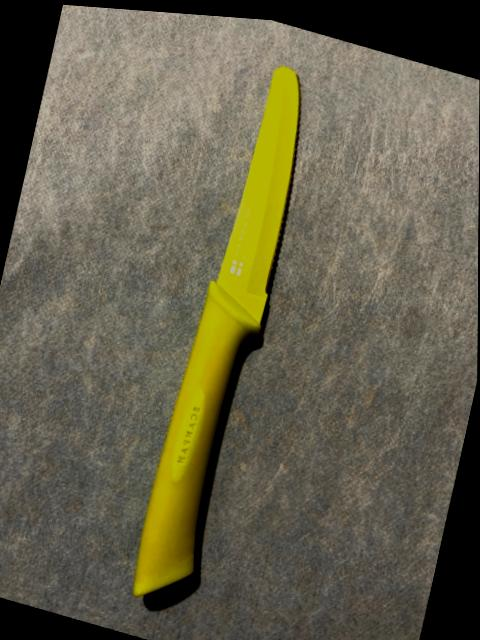Knife: (133, 68, 298, 595)
